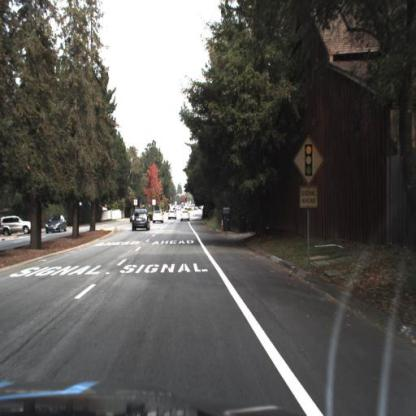car: (43, 211, 72, 240), (1, 215, 33, 238), (128, 207, 151, 234), (178, 206, 194, 228), (151, 206, 165, 224), (168, 208, 178, 224)
